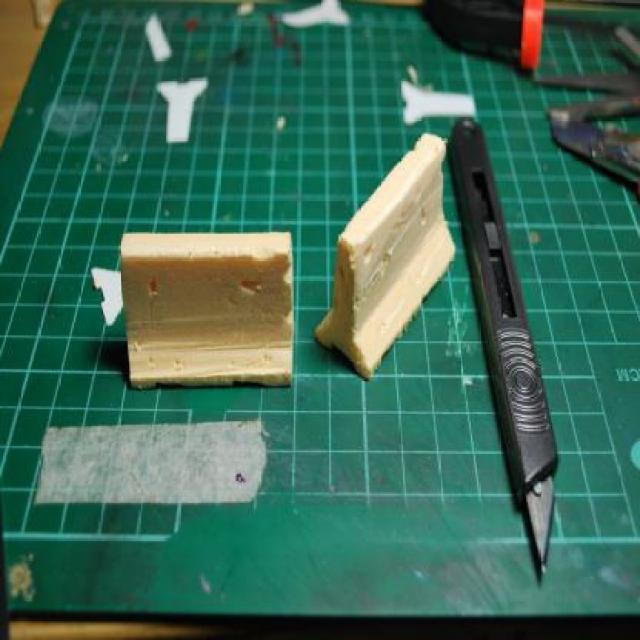Cheese: (311, 129, 458, 380), (118, 230, 292, 388)
